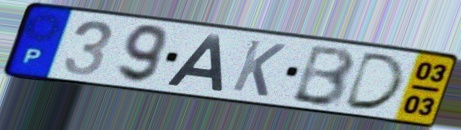3: (61, 19, 115, 77)
9: (114, 23, 171, 85)
A: (162, 32, 225, 93)
B: (287, 44, 359, 109)
D: (339, 50, 409, 113)
K: (228, 37, 289, 99)
